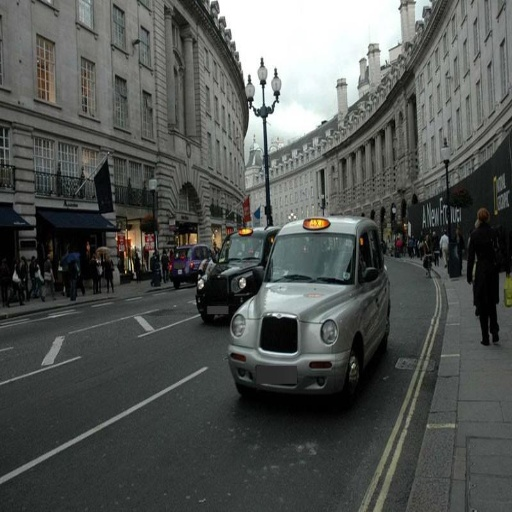front_bumper: (236, 321, 349, 393)
